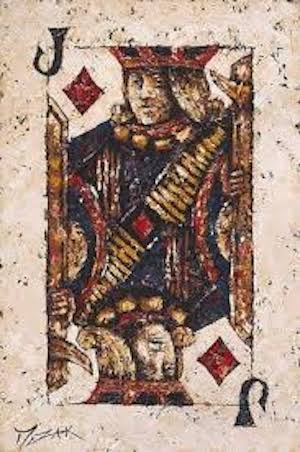JackOfDiamonds: (3, 1, 300, 451)
